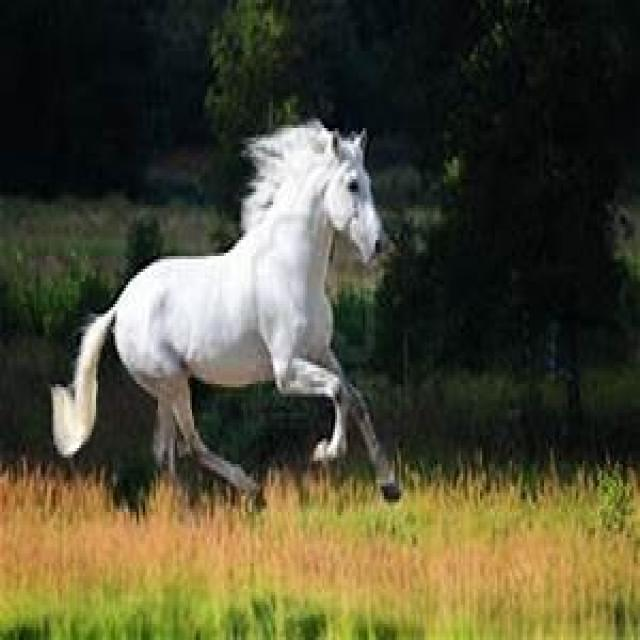horse: (49, 122, 399, 499)
